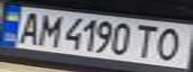0: (112, 20, 136, 56)
1: (78, 17, 96, 52)
4: (63, 15, 84, 51)
9: (93, 18, 115, 54)
A: (12, 9, 45, 45)
M: (33, 11, 63, 47)
O: (151, 25, 190, 62)
T: (130, 22, 163, 58)
